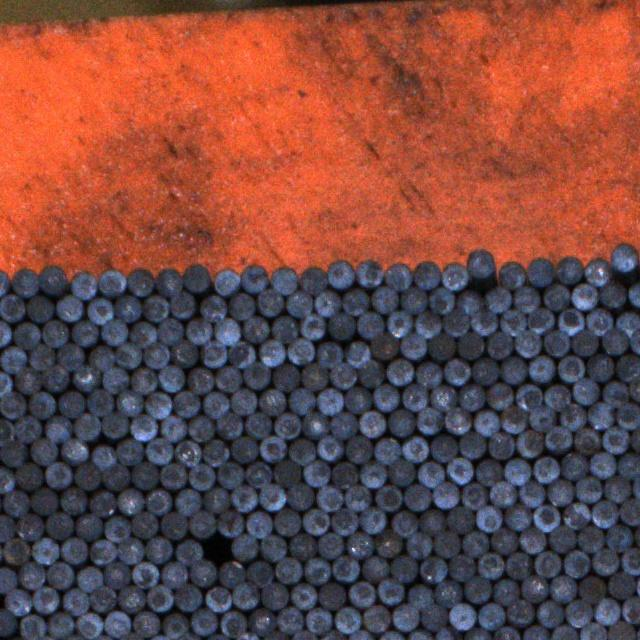tool: (37, 265, 67, 295), (98, 267, 126, 298), (327, 258, 355, 289), (10, 267, 38, 297), (154, 267, 182, 297), (182, 262, 210, 292), (240, 263, 268, 293), (412, 260, 440, 290), (526, 257, 554, 287), (610, 242, 638, 272), (126, 267, 154, 296), (299, 266, 327, 295), (584, 257, 612, 286), (169, 338, 197, 367), (316, 387, 344, 416), (544, 425, 572, 454), (355, 258, 382, 288), (441, 261, 468, 291), (498, 260, 525, 290), (384, 262, 412, 290), (25, 294, 53, 322), (113, 294, 141, 322), (313, 289, 341, 317), (341, 288, 369, 316), (370, 286, 398, 314), (570, 282, 598, 310), (212, 318, 240, 346), (56, 342, 84, 370), (271, 363, 299, 391), (86, 388, 114, 416), (257, 388, 285, 416), (514, 384, 542, 412), (416, 406, 444, 434), (572, 377, 600, 405), (586, 401, 614, 429), (488, 480, 516, 508), (248, 608, 276, 636), (466, 248, 493, 277), (586, 353, 613, 382), (344, 385, 371, 414), (116, 437, 143, 466), (70, 270, 96, 300), (270, 266, 297, 294), (86, 297, 113, 325), (142, 294, 169, 322), (198, 295, 226, 322), (256, 288, 283, 316), (427, 286, 454, 314), (512, 286, 540, 313), (542, 283, 570, 310), (598, 280, 625, 308), (12, 322, 40, 349), (414, 310, 441, 338), (227, 341, 255, 368), (258, 338, 285, 366), (286, 337, 314, 364), (456, 332, 484, 359), (73, 364, 100, 392), (386, 358, 414, 385), (528, 355, 555, 383), (557, 354, 584, 382), (13, 415, 40, 443), (44, 414, 71, 442), (144, 391, 171, 419), (288, 387, 315, 415), (486, 382, 514, 409), (444, 406, 471, 434), (528, 404, 555, 432), (61, 437, 88, 465), (145, 437, 172, 465), (200, 439, 228, 466), (230, 436, 258, 463), (344, 436, 372, 463), (373, 437, 400, 465), (401, 435, 429, 462), (601, 426, 629, 453), (272, 459, 300, 486), (330, 461, 357, 489), (474, 504, 501, 532), (447, 506, 474, 534), (2, 536, 29, 564), (31, 537, 58, 565), (130, 561, 158, 588), (61, 588, 88, 616), (504, 552, 532, 579), (260, 582, 287, 610), (520, 575, 548, 602), (362, 605, 390, 632), (448, 602, 475, 630), (556, 255, 582, 284), (200, 339, 226, 368), (514, 329, 540, 358), (128, 414, 157, 440), (302, 411, 328, 440), (19, 560, 45, 589), (213, 269, 240, 296), (470, 308, 497, 335), (243, 362, 270, 389), (301, 362, 328, 389), (471, 358, 498, 385), (27, 391, 54, 418), (172, 390, 199, 417), (358, 410, 385, 437), (388, 409, 415, 436), (430, 435, 457, 462), (573, 428, 600, 455), (303, 460, 330, 487), (45, 512, 72, 539), (189, 559, 216, 586), (548, 525, 575, 552), (606, 524, 633, 551), (31, 586, 58, 613), (88, 585, 115, 612), (434, 580, 461, 607), (190, 608, 217, 635), (169, 291, 195, 319), (228, 292, 254, 320), (42, 319, 68, 347), (128, 321, 156, 347), (157, 317, 183, 345), (271, 315, 297, 343), (357, 311, 383, 339), (442, 308, 468, 336), (586, 307, 612, 335), (0, 346, 26, 374), (88, 344, 114, 372), (370, 332, 398, 358), (102, 366, 128, 394), (130, 366, 156, 394), (214, 366, 242, 392), (328, 362, 356, 388), (358, 359, 384, 387), (442, 358, 470, 384), (500, 356, 526, 384), (72, 413, 100, 439), (373, 384, 399, 412), (402, 383, 428, 411), (330, 412, 358, 438), (499, 406, 527, 432), (0, 440, 28, 466), (316, 435, 344, 461), (516, 429, 542, 457), (476, 458, 502, 486), (533, 456, 559, 484), (15, 514, 43, 540), (75, 514, 103, 540), (533, 504, 559, 532), (231, 533, 257, 561), (376, 529, 402, 557), (118, 585, 144, 613), (173, 584, 201, 610), (332, 554, 358, 582), (563, 549, 589, 577), (276, 606, 302, 634), (334, 606, 360, 634), (506, 598, 532, 626), (536, 600, 562, 628), (564, 600, 592, 626), (286, 290, 312, 317), (399, 286, 426, 312), (456, 289, 482, 316), (484, 286, 511, 312), (71, 320, 98, 346), (101, 318, 127, 345), (185, 318, 212, 344), (28, 343, 54, 370), (114, 341, 140, 368), (344, 340, 370, 367), (400, 332, 426, 359), (602, 327, 628, 354), (15, 367, 42, 393), (415, 362, 442, 388), (0, 391, 26, 418), (116, 389, 142, 416), (101, 411, 127, 438), (202, 391, 228, 418), (159, 415, 186, 441), (187, 415, 214, 441), (458, 384, 484, 411), (216, 413, 242, 440), (244, 412, 271, 438), (273, 412, 300, 438), (544, 384, 570, 411), (559, 403, 585, 430), (30, 439, 57, 465), (16, 464, 42, 491), (44, 462, 70, 489), (102, 464, 129, 490), (188, 464, 214, 491), (387, 459, 414, 485), (446, 457, 472, 484), (503, 458, 530, 484), (561, 453, 587, 480), (3, 489, 29, 516), (231, 485, 257, 512), (259, 484, 285, 511), (432, 481, 458, 508), (160, 512, 187, 538), (273, 510, 300, 536), (331, 508, 357, 535), (563, 502, 589, 529), (591, 500, 617, 527), (260, 534, 286, 561), (290, 534, 316, 561), (433, 530, 459, 557), (46, 562, 73, 588), (146, 584, 172, 611), (218, 561, 244, 588), (245, 561, 272, 587), (274, 557, 301, 583), (448, 553, 474, 580), (103, 610, 130, 636), (220, 610, 246, 637), (305, 607, 331, 634), (594, 597, 620, 624), (57, 392, 85, 417), (416, 462, 444, 487), (161, 560, 186, 588), (56, 296, 82, 322), (242, 316, 268, 342), (328, 312, 354, 338), (527, 307, 553, 333), (558, 308, 584, 334), (542, 330, 568, 356), (571, 329, 597, 355), (42, 365, 68, 391), (158, 365, 184, 391), (187, 367, 213, 393), (230, 388, 256, 414), (430, 384, 456, 410), (602, 381, 628, 407), (459, 432, 485, 458), (488, 432, 514, 458), (132, 463, 158, 489), (216, 462, 242, 488), (245, 462, 271, 488), (359, 462, 385, 488), (589, 452, 615, 478), (117, 488, 143, 514), (145, 489, 171, 515), (344, 485, 370, 511), (404, 484, 430, 510), (603, 476, 629, 502), (103, 516, 129, 542), (131, 511, 157, 537), (217, 511, 243, 537), (359, 507, 385, 533), (419, 510, 445, 536), (504, 504, 530, 530), (60, 538, 86, 564), (117, 538, 143, 564), (145, 537, 171, 563), (462, 531, 488, 557), (519, 527, 545, 553), (577, 526, 603, 552), (4, 588, 30, 614), (304, 558, 330, 584), (420, 556, 446, 582), (290, 583, 316, 609), (318, 583, 344, 609), (492, 579, 518, 605), (48, 613, 74, 639), (76, 612, 102, 638), (162, 613, 188, 639), (478, 603, 504, 629), (500, 308, 525, 335), (143, 342, 168, 369), (428, 333, 453, 360), (259, 437, 286, 462), (289, 439, 314, 466), (175, 488, 200, 515), (286, 484, 313, 509), (232, 582, 257, 609), (550, 576, 575, 603), (579, 576, 604, 603), (609, 571, 634, 598), (421, 604, 446, 631), (0, 294, 24, 322), (388, 310, 412, 338), (474, 408, 498, 436), (91, 444, 115, 472), (317, 342, 342, 368), (487, 332, 512, 358), (74, 464, 99, 490), (160, 463, 185, 489), (30, 488, 56, 513), (60, 488, 85, 514), (375, 485, 400, 511), (519, 481, 544, 507), (546, 480, 572, 505), (575, 477, 601, 502), (246, 512, 271, 538), (302, 509, 328, 534), (391, 511, 417, 536), (176, 540, 201, 566), (347, 532, 372, 558), (362, 556, 388, 581), (391, 556, 416, 582), (477, 553, 503, 578), (535, 550, 560, 576), (205, 586, 230, 612), (349, 581, 374, 607), (377, 578, 402, 604), (464, 577, 489, 603), (132, 611, 158, 636), (393, 604, 418, 630), (300, 313, 324, 340), (89, 491, 116, 515), (202, 488, 229, 512), (105, 561, 129, 588), (594, 548, 618, 575), (491, 529, 516, 554), (616, 311, 640, 337), (616, 355, 640, 381), (616, 402, 640, 428), (174, 441, 200, 465), (316, 487, 342, 511), (90, 540, 116, 564), (318, 532, 342, 558), (407, 532, 431, 558), (78, 566, 102, 592), (408, 585, 432, 611), (20, 614, 44, 640), (462, 484, 486, 509), (190, 511, 214, 536), (617, 453, 640, 478), (619, 498, 640, 525), (608, 620, 634, 640), (621, 548, 640, 574), (622, 596, 640, 623), (580, 622, 606, 640), (0, 567, 16, 593), (552, 624, 577, 640), (0, 610, 16, 634), (524, 624, 548, 640), (493, 626, 520, 640), (0, 418, 13, 446), (0, 514, 13, 542), (464, 627, 491, 640), (0, 468, 14, 493), (435, 627, 461, 640), (628, 280, 640, 307), (0, 370, 11, 398), (0, 319, 11, 346)
void: (198, 534, 230, 562)
